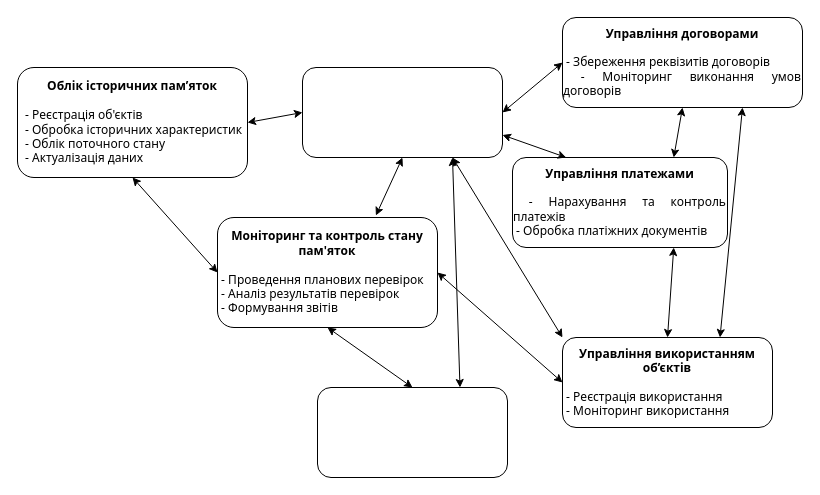
This 820x495 diagram has some shape labels left out. The centre of each missing label's shape, as x and y in pixels:
Управління обладнанням - Інвентаризація обладнання - Обслуговування обладнання: point (412, 432)
Управління інформаційною системою - Адміністрування - Захист та безпека даних: point (402, 112)
